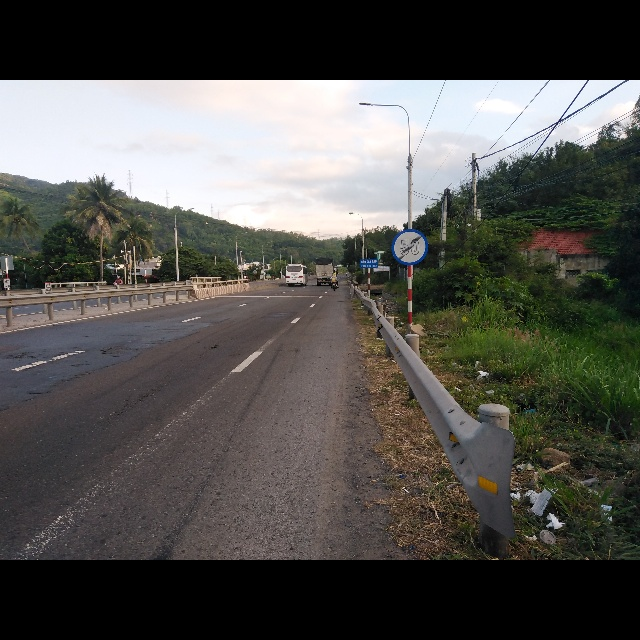Hết hạn chế tốc độ tối đa 50km/h: (390, 227, 427, 266)
